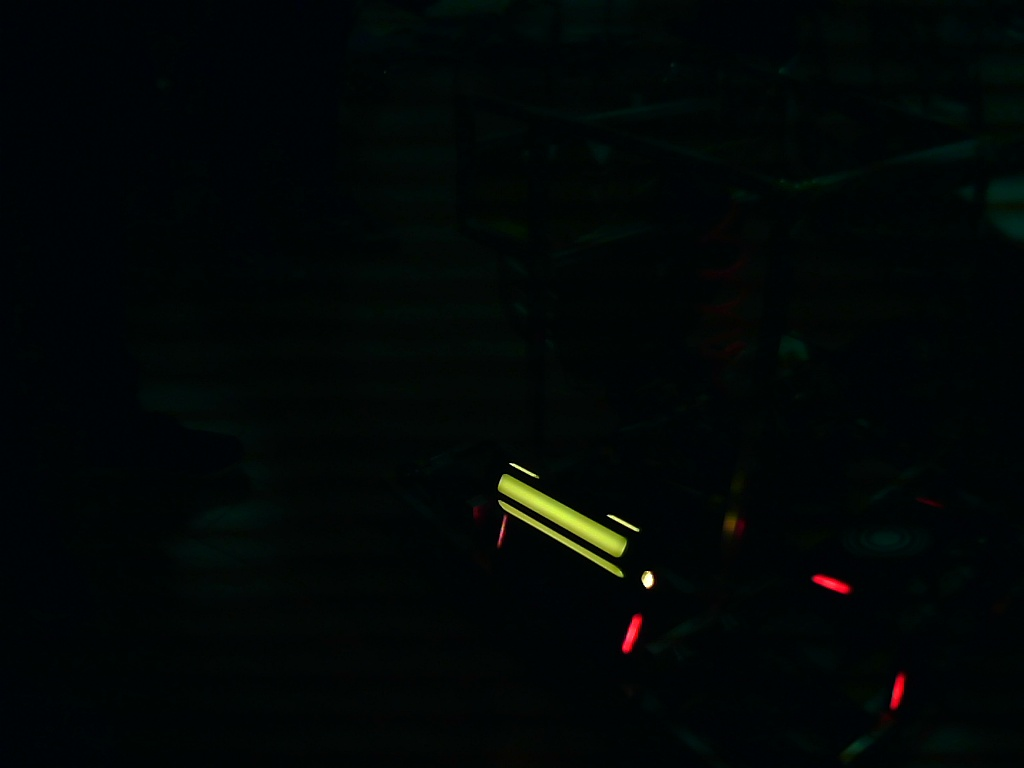lamp: (621, 609, 643, 655), (886, 670, 909, 711)
